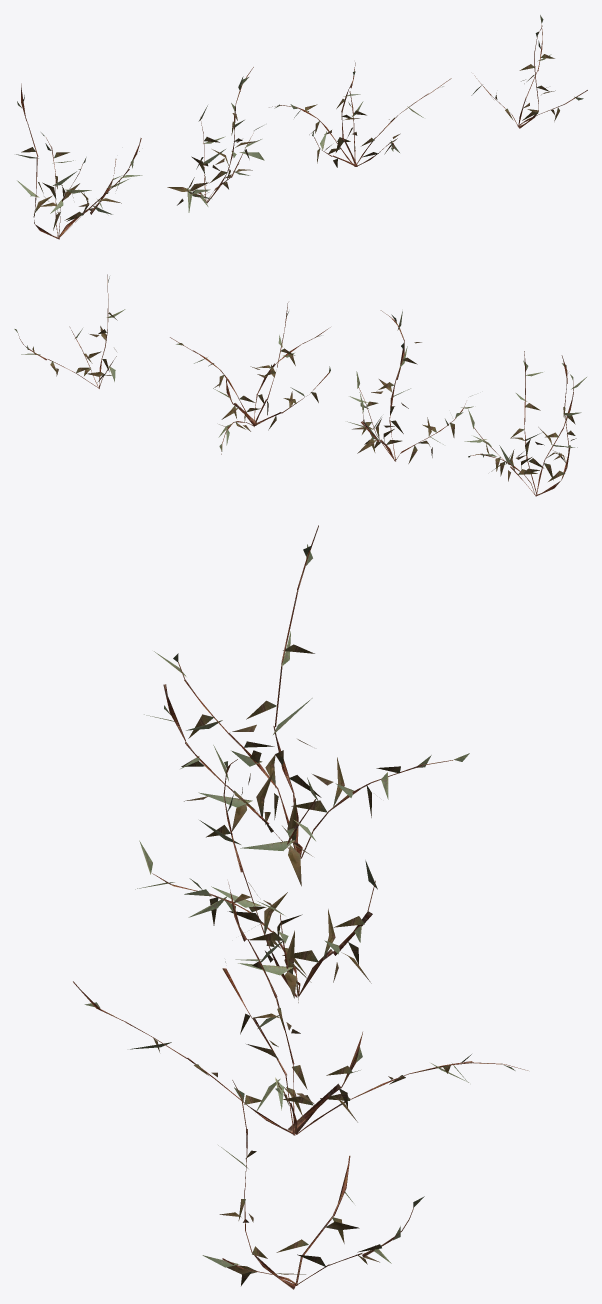
The model's file is shrub_02_lod1.gltf.
The picture shows the model from 3 angles, top to bottom: view 1: azimuth 30°, elevation 25°; view 2: azimuth 150°, elevation 25°; view 3: azimuth 270°, elevation 25°; orthographic projection. The views are drawn at different scales.
Parts seen in each view (by area): view 1: shrub_02_lod1; view 2: shrub_02_lod1; view 3: shrub_02_lod1.
Part boxes in pixels (left/top/right/bottom): shrub_02_lod1: left=16, top=15, right=587, bottom=239; shrub_02_lod1: left=14, top=274, right=586, bottom=496; shrub_02_lod1: left=73, top=525, right=528, bottom=1289.
Size of the model in its own units: 5.91 by 1.61 by 2.17.
Materials: 1 (1 with a texture image).
